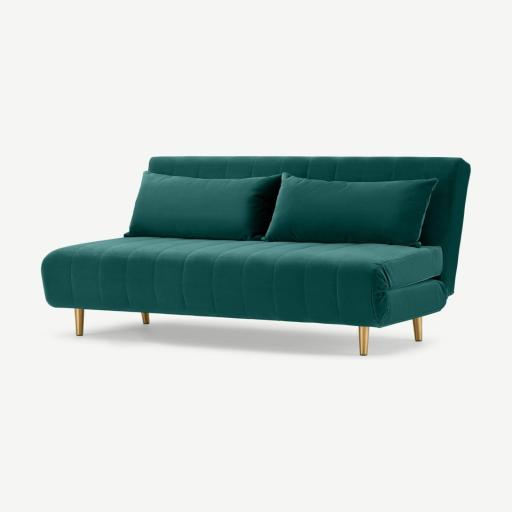back_cushion: (128, 171, 437, 245)
legs: (359, 327, 369, 355), (75, 309, 84, 335), (413, 317, 422, 341), (141, 313, 148, 324)
seat_cushion: (42, 237, 447, 327)
two-seater: (0, 0, 511, 512)
